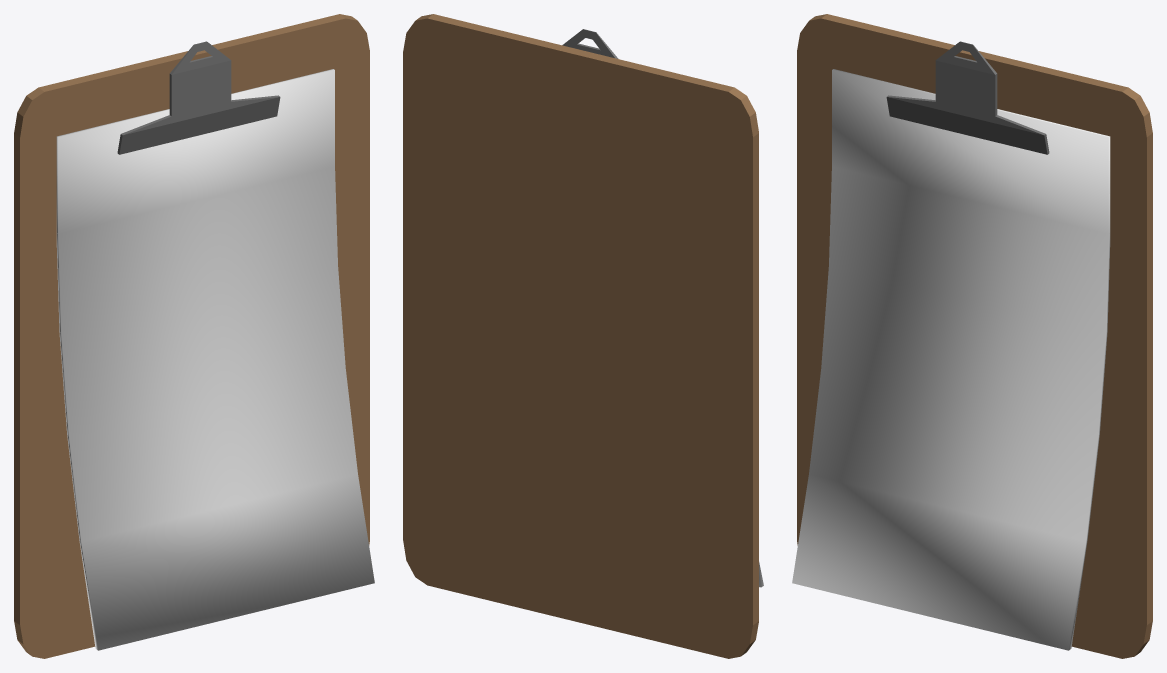
Rendered from Clipboard.fbx.
The picture shows the model from 3 angles, left to right: view 1: azimuth 30°, elevation 25°; view 2: azimuth 150°, elevation 25°; view 3: azimuth 330°, elevation 25°; orthographic projection.
Parts seen in each view (by area): view 1: Paper, Clipboard; view 2: Clipboard; view 3: Paper, Clipboard.
Part boxes in pixels (<box>): Paper: <box>56,69,374,650</box>; Clipboard: <box>14,14,369,658</box>; Clipboard: <box>403,14,758,658</box>; Paper: <box>792,69,1110,650</box>; Clipboard: <box>797,14,1152,658</box>.
Bounding box in the file's own units: 10.15 × 16.16 × 2.39.
